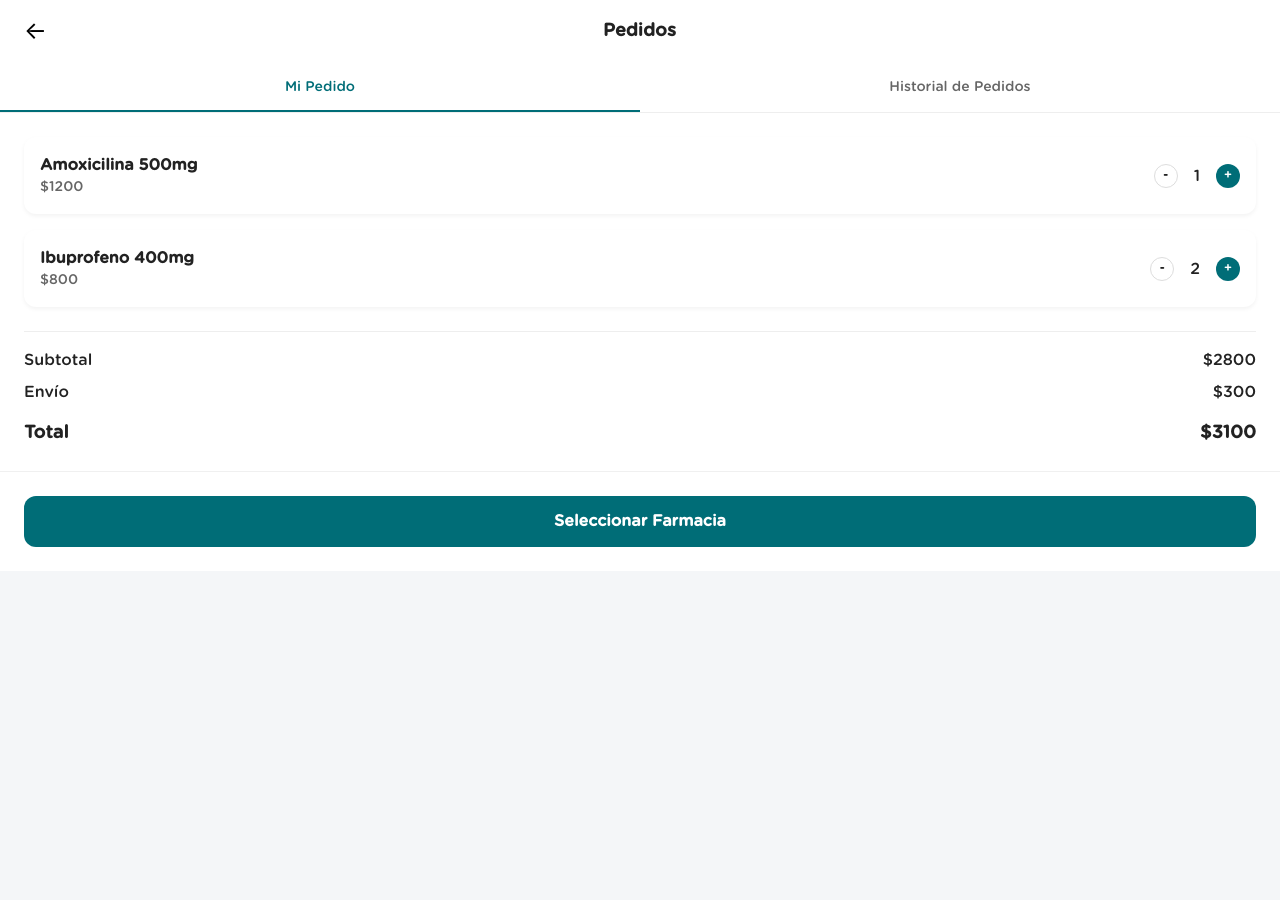
Test case: OrderReview Component › repeats order when clicking repeat button
// Switch to history tab
Click the button "Historial de Pedidos": (960, 88) [640,63,1279,112]
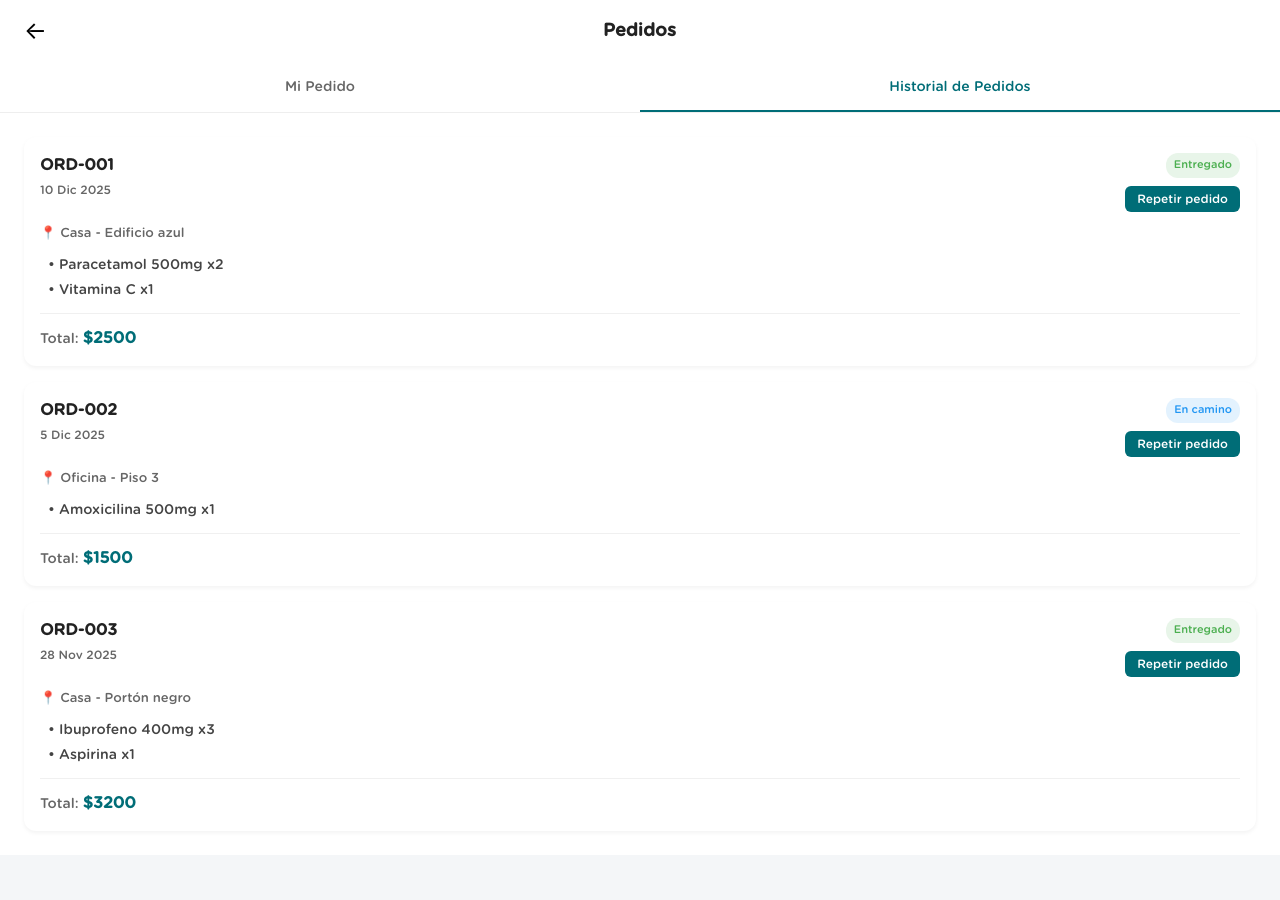
// Click repeat order button on first order
Click the button "Repetir pedido" in the row of "10 Dic 2025": (1183, 198) [1125,186,1240,212]
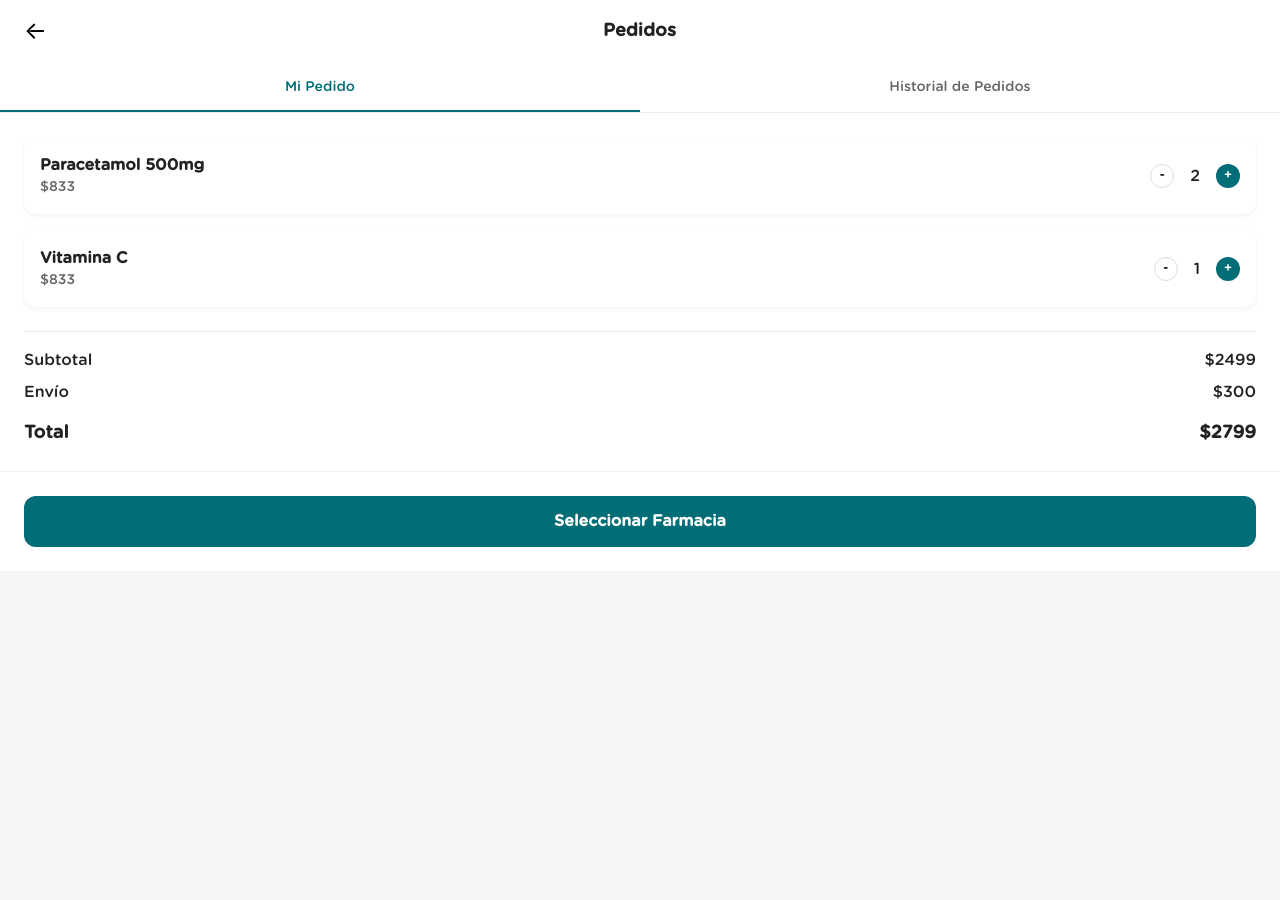
Check: the text "Paracetamol 500mg" is shown, box [40,153,204,177]
Check: the text "Vitamina C" is shown, box [40,246,128,270]
Check: the text "ORD-001" is gone
